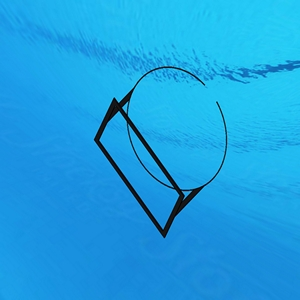circle: (92, 63, 235, 240)
